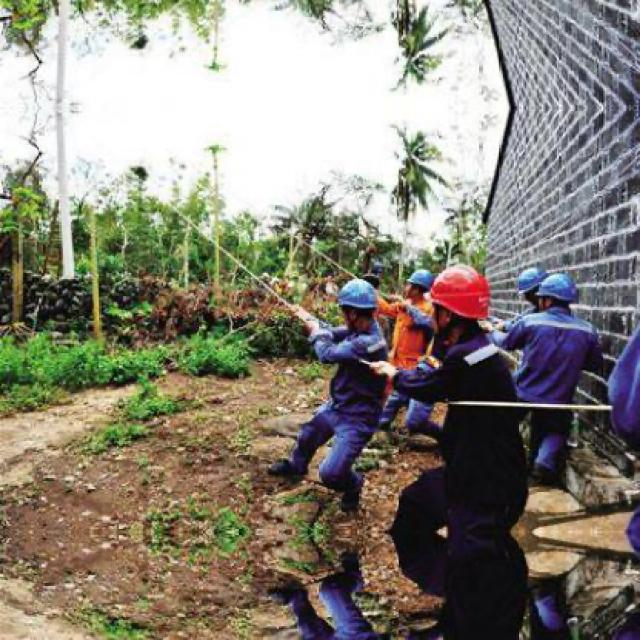helmet: (428, 261, 494, 336), (337, 278, 380, 332), (532, 272, 582, 314), (516, 260, 546, 304), (404, 262, 434, 302)
